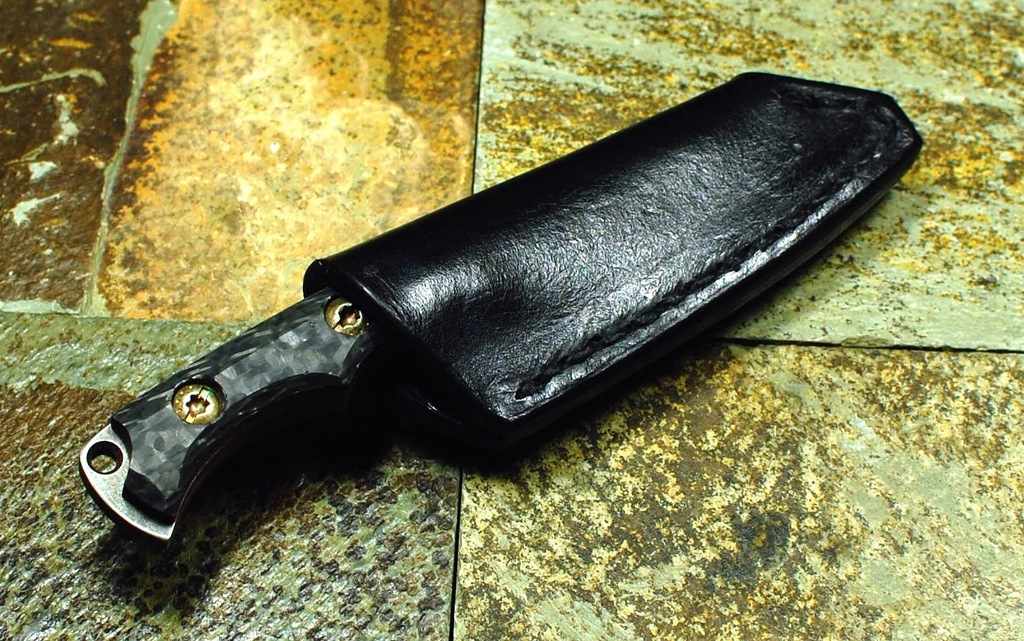knife: (76, 70, 924, 551)
